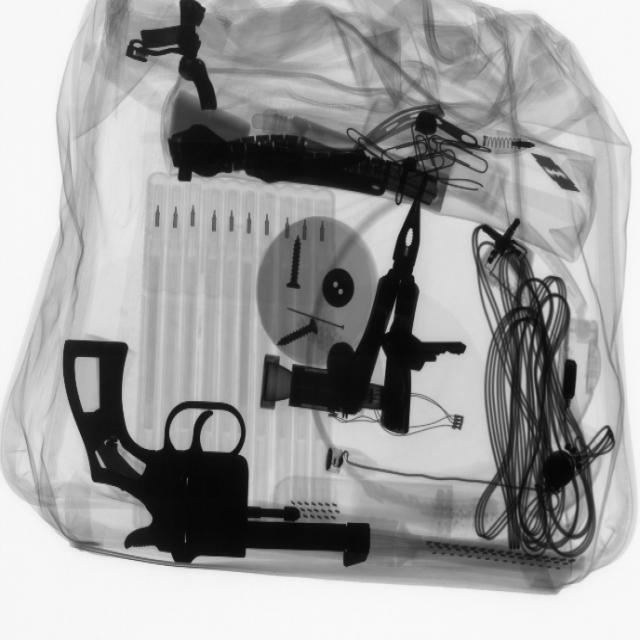BLADE: (532, 147, 582, 200)
GUN: (68, 334, 378, 564)
SCREW: (275, 231, 320, 299), (268, 306, 326, 357)
